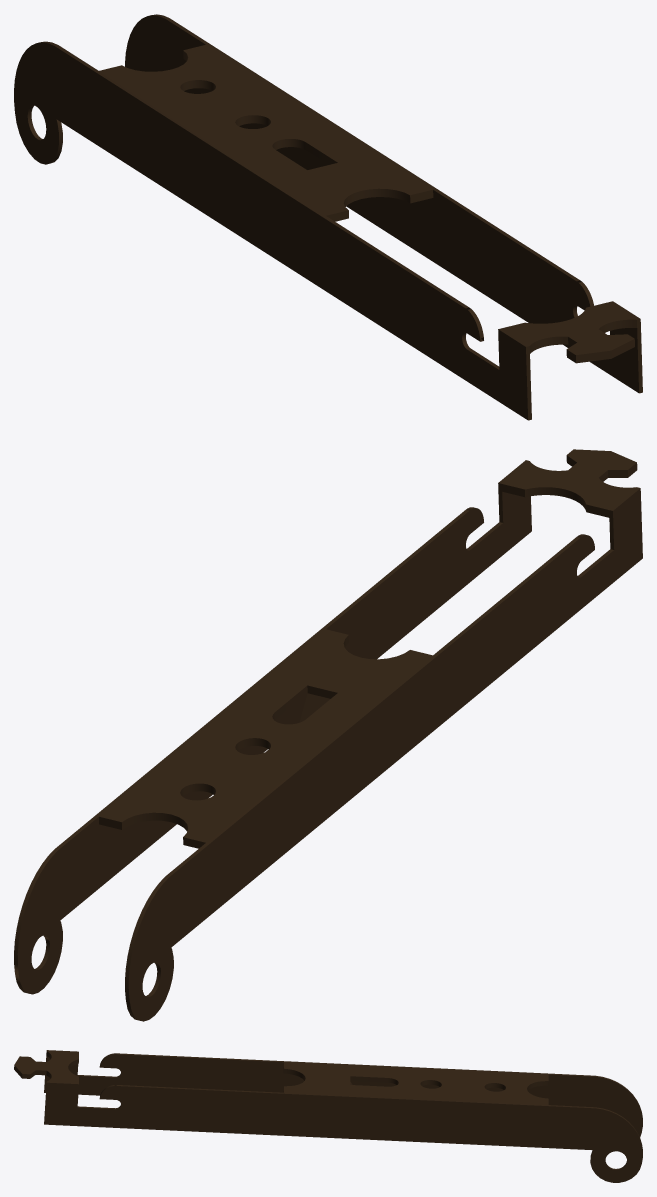
Rendered from original-11.obj.
The picture shows the model from 3 angles, top to bottom: view 1: azimuth 30°, elevation 25°; view 2: azimuth 150°, elevation 25°; view 3: azimuth 270°, elevation 25°; orthographic projection. The views are drawn at different scales.
Parts seen in each view (by area): view 1: Group9/mesh146/mesh146-geometry#mesh146-geometry; view 2: Group9/mesh146/mesh146-geometry#mesh146-geometry; view 3: Group9/mesh146/mesh146-geometry#mesh146-geometry.
Boxes of the visible parts, x1=… form: Group9/mesh146/mesh146-geometry#mesh146-geometry: x1=14, y1=14, x2=642, y2=420; Group9/mesh146/mesh146-geometry#mesh146-geometry: x1=14, y1=449, x2=642, y2=1021; Group9/mesh146/mesh146-geometry#mesh146-geometry: x1=14, y1=1050, x2=642, y2=1182.
Bounding box in the file's own units: 0.1779 × 0.2587 × 1.45.
